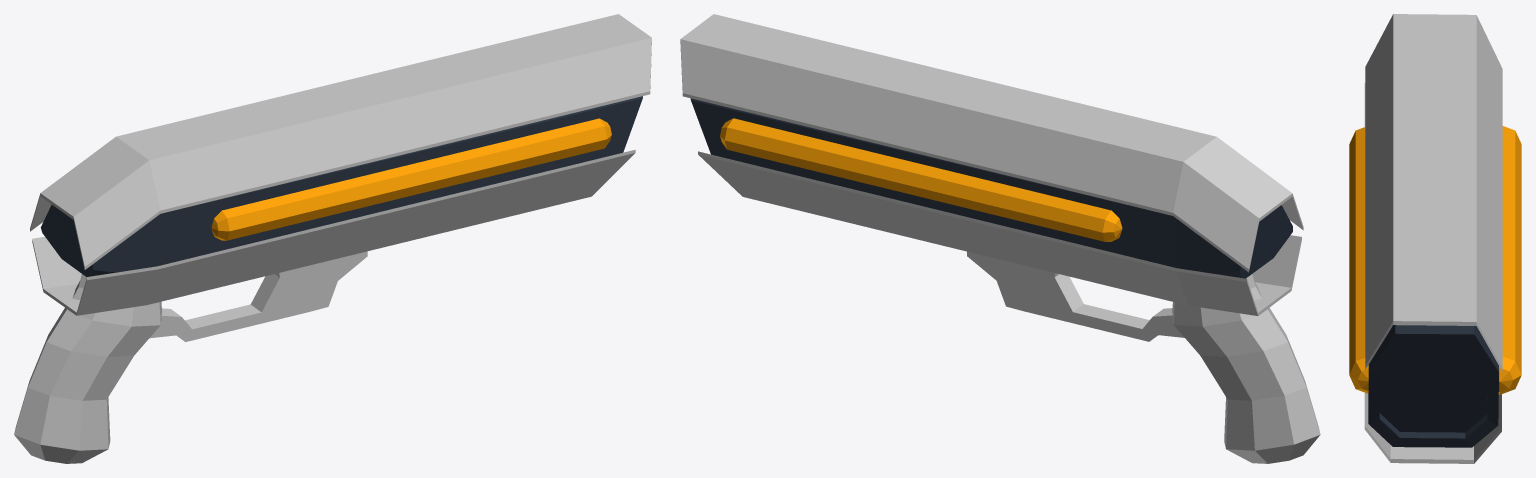
Rendered from pistola good de verdad.obj.
3 renders of one model, left to right at view 1: azimuth 30°, elevation 25°; view 2: azimuth 150°, elevation 25°; view 3: azimuth 270°, elevation 25°, orthographic. The views are drawn at different scales.
Parts seen in each view (by area): view 1: Cylinder.003, Cylinder.004, Cylinder.002, Cylinder.005, Sphere.001, Cube; view 2: Cylinder.003, Cylinder.004, Cylinder.002, Cylinder.005, Sphere, Cube; view 3: Cylinder.003, Cylinder.002, Sphere, Sphere.001, Cylinder.004.
Boxes of the visible parts, x1=… form: Cylinder.003: x1=30, y1=14, x2=651, y2=269; Cylinder.004: x1=32, y1=149, x2=635, y2=315; Cylinder.002: x1=40, y1=96, x2=642, y2=276; Cylinder.005: x1=14, y1=274, x2=162, y2=463; Sphere.001: x1=211, y1=118, x2=611, y2=240; Cube: x1=150, y1=251, x2=367, y2=341; Cylinder.003: x1=680, y1=14, x2=1303, y2=272; Cylinder.004: x1=698, y1=151, x2=1301, y2=315; Cylinder.002: x1=690, y1=98, x2=1292, y2=278; Cylinder.005: x1=1172, y1=274, x2=1320, y2=463; Sphere: x1=720, y1=118, x2=1122, y2=241; Cube: x1=967, y1=251, x2=1184, y2=341; Cylinder.003: x1=1365, y1=14, x2=1502, y2=371; Cylinder.002: x1=1368, y1=325, x2=1498, y2=447; Sphere: x1=1498, y1=126, x2=1521, y2=394; Sphere.001: x1=1349, y1=127, x2=1368, y2=393; Cylinder.004: x1=1364, y1=83, x2=1501, y2=463.
Bounding box in the file's own units: 2.61 × 1.2 × 0.5014.
